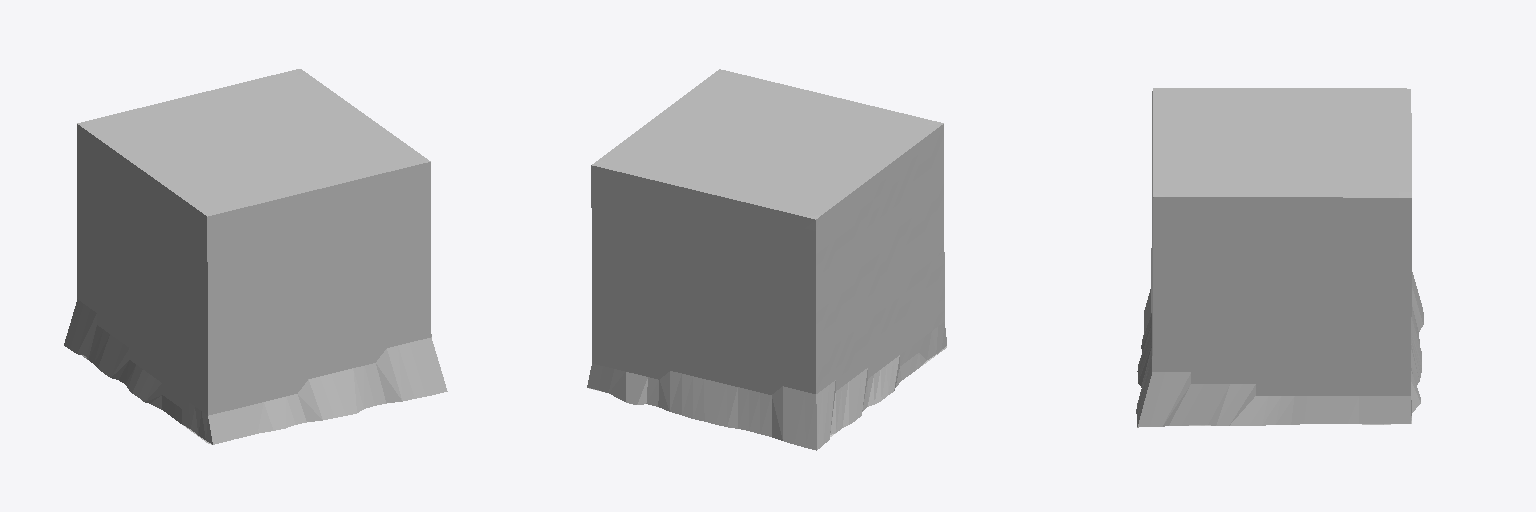
Rendered from mod0141.obj.
The picture shows the model from 3 angles: view 1: azimuth 30°, elevation 25°; view 2: azimuth 150°, elevation 25°; view 3: azimuth 270°, elevation 25°; orthographic projection.
Parts seen in each view (by area): view 1: Box001; view 2: Box001; view 3: Box001.
Part boxes in pixels (x1,y1,x2,y2): Box001: (64, 69, 447, 444); Box001: (587, 69, 946, 450); Box001: (1136, 88, 1423, 427).
Bounding box in the file's own units: 0.5799 × 0.5213 × 0.5979.